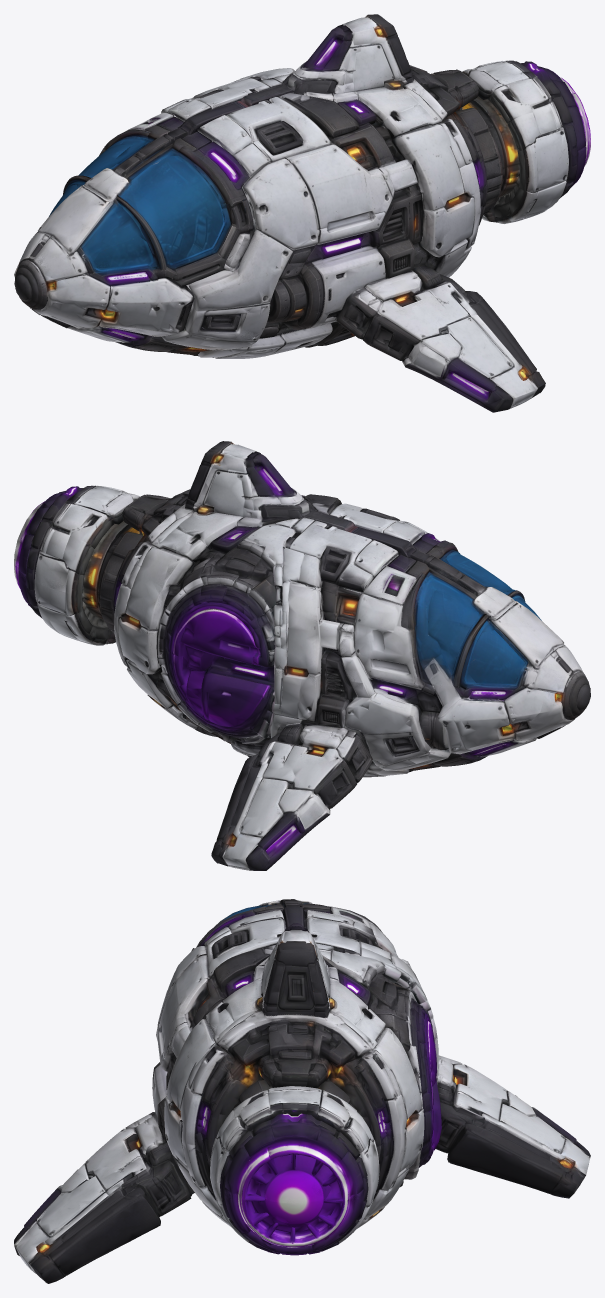
The model's file is detailed-02.glb.
The picture shows the model from 3 angles, top to bottom: view 1: azimuth 30°, elevation 25°; view 2: azimuth 150°, elevation 25°; view 3: azimuth 270°, elevation 25°; orthographic projection. The views are drawn at different scales.
Visible parts, largest first — view 1: debris_1_1, debris_1_0, debris_0_1, debris_0_0, debris_2_1, debris_2_0, hull; view 2: debris_1_1, debris_0_1, debris_0_0, debris_1_0, debris_2_1, debris_2_0, hull; view 3: debris_2_1, debris_1_1, debris_1_0, debris_2_0, hull, debris_0_1, debris_0_0.
Boxes of the visible parts, <box> form: debris_1_1: <box>162,14,444,259</box>; debris_1_0: <box>223,212,515,412</box>; debris_0_1: <box>27,108,261,269</box>; debris_0_0: <box>14,245,262,358</box>; debris_2_1: <box>378,14,590,211</box>; debris_2_0: <box>435,142,590,406</box>; hull: <box>22,15,590,408</box>; debris_1_1: <box>158,441,440,676</box>; debris_0_1: <box>339,533,577,686</box>; debris_0_0: <box>267,661,590,868</box>; debris_1_0: <box>157,635,341,870</box>; debris_2_1: <box>14,442,220,632</box>; debris_2_0: <box>14,566,177,717</box>; hull: <box>14,441,578,869</box>; debris_2_1: <box>168,949,423,1202</box>; debris_1_1: <box>157,909,437,1105</box>; debris_1_0: <box>14,1025,590,1255</box>; debris_2_0: <box>16,1108,424,1283</box>; hull: <box>16,905,561,1251</box>; debris_0_1: <box>191,899,407,962</box>; debris_0_0: <box>438,1055,559,1126</box>.
Size of the model in its own units: 1 by 0.516 by 0.8458.
Materials: 141 (140 with a texture image).
